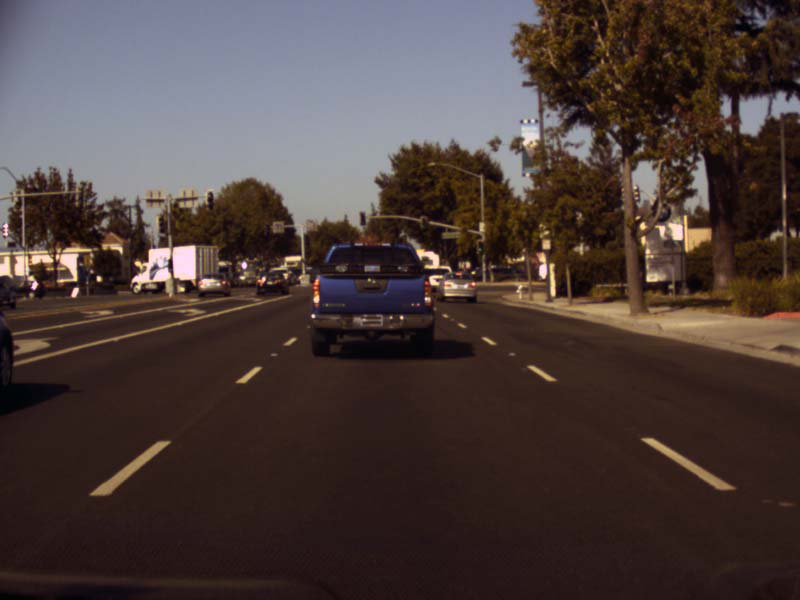Green: (476, 241, 483, 254)
